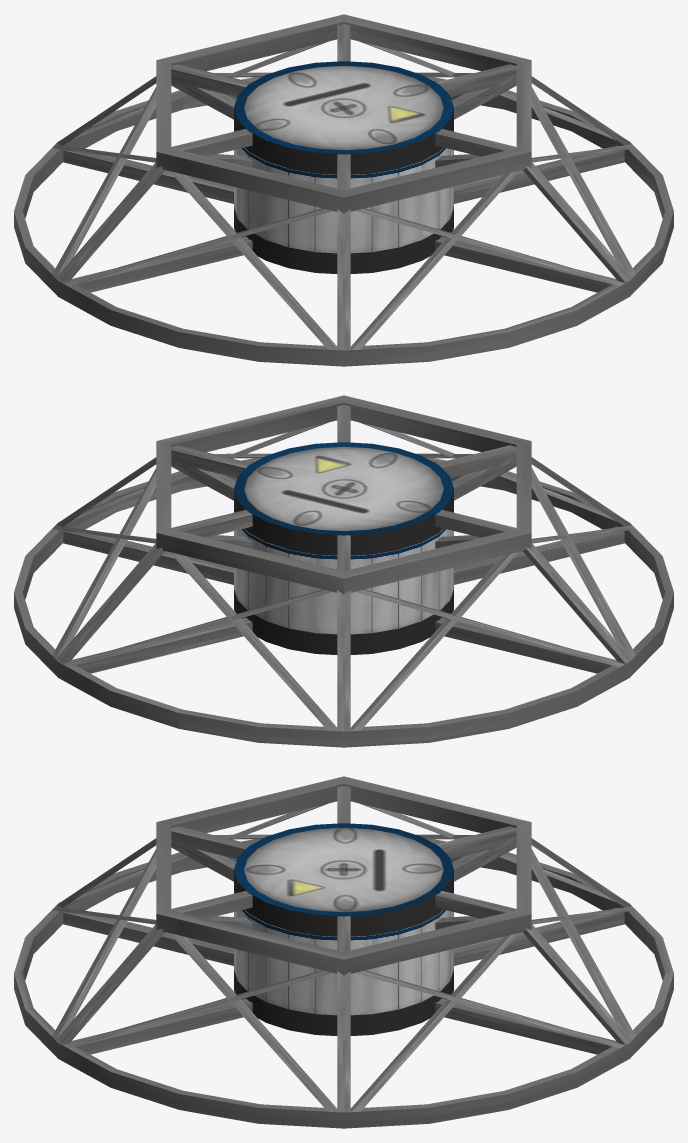
The model's file is HexAdapterB.FBX.
3 views of the same model, one above another, from view 1: azimuth 30°, elevation 25°; view 2: azimuth 150°, elevation 25°; view 3: azimuth 270°, elevation 25° (orthographic).
Parts seen in each view (by area): view 1: BottomRing, EndCap007, EndBeam004, VestibuleBody, UpperBeam055, UpperBeam028, EndCap013, UpperBeam053, UpperBeam052, UpperBeam025, CrossBeam016, CrossBeam020 (+15 smaller); view 2: BottomRing, EndCap007, EndBeam004, VestibuleBody, UpperBeam054, UpperBeam028, EndCap013, UpperBeam053, UpperBeam025, UpperBeam051, CrossBeam014, CrossBeam013 (+14 smaller); view 3: BottomRing, EndCap007, EndBeam004, VestibuleBody, EndCap013, UpperBeam044, UpperBeam043, UpperBeam051, UpperBeam052, CrossBeam018, CrossBeam022, CrossBeam008 (+15 smaller).
Boxes of the visible parts, x1,y1,x2,y2 form: BottomRing: [14, 77, 673, 366]; EndCap007: [234, 61, 453, 174]; EndBeam004: [156, 14, 531, 213]; VestibuleBody: [234, 129, 453, 253]; UpperBeam055: [63, 146, 617, 292]; UpperBeam028: [70, 146, 624, 292]; EndCap013: [234, 168, 453, 273]; UpperBeam053: [72, 145, 624, 291]; UpperBeam052: [171, 64, 516, 156]; UpperBeam025: [171, 64, 516, 156]; CrossBeam016: [351, 171, 518, 350]; CrossBeam020: [169, 171, 337, 349]; BottomRing: [14, 458, 673, 747]; EndCap007: [234, 442, 453, 555]; EndBeam004: [156, 395, 531, 594]; VestibuleBody: [234, 510, 453, 634]; UpperBeam054: [70, 526, 624, 673]; UpperBeam028: [63, 526, 617, 673]; EndCap013: [234, 549, 453, 654]; UpperBeam053: [63, 527, 615, 673]; UpperBeam025: [171, 445, 516, 537]; UpperBeam051: [171, 445, 516, 537]; CrossBeam014: [351, 552, 518, 730]; CrossBeam013: [169, 552, 337, 730]; BottomRing: [14, 839, 673, 1128]; EndCap007: [234, 823, 453, 936]; EndBeam004: [156, 776, 531, 975]; VestibuleBody: [234, 891, 453, 1015]; EndCap013: [234, 930, 453, 1035]; UpperBeam044: [76, 908, 624, 1054]; UpperBeam043: [63, 912, 611, 1054]; UpperBeam051: [171, 826, 516, 918]; UpperBeam052: [171, 826, 516, 918]; CrossBeam018: [350, 933, 518, 1111]; CrossBeam022: [169, 933, 337, 1111]; CrossBeam008: [531, 849, 635, 1039].
Size of what is drawn, in the model's own units: 3.75 by 0.7652 by 3.75.
